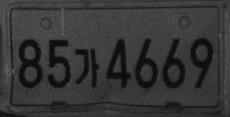4: (104, 38, 132, 88)
5: (47, 39, 72, 88)
6: (161, 37, 186, 89), (134, 38, 159, 89)
8: (17, 38, 43, 88)
9: (188, 37, 214, 88)
가: (74, 47, 100, 87)
